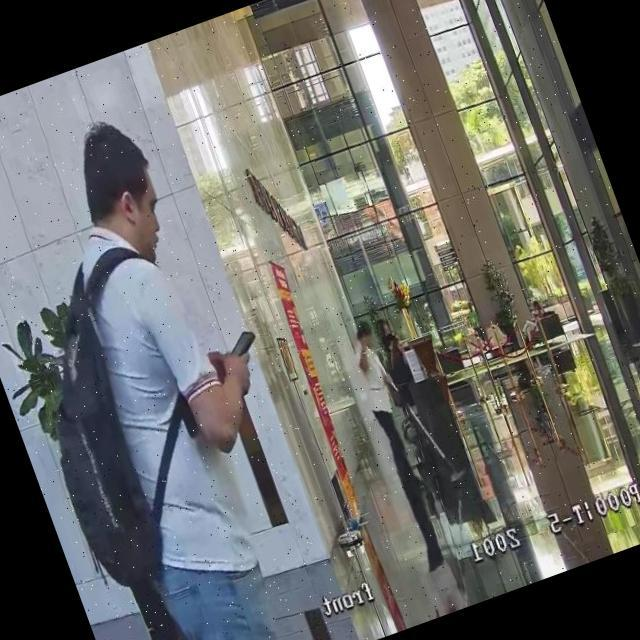person: (0, 99, 353, 640), (340, 317, 460, 573), (508, 298, 554, 352), (379, 336, 418, 399), (375, 316, 398, 351)
